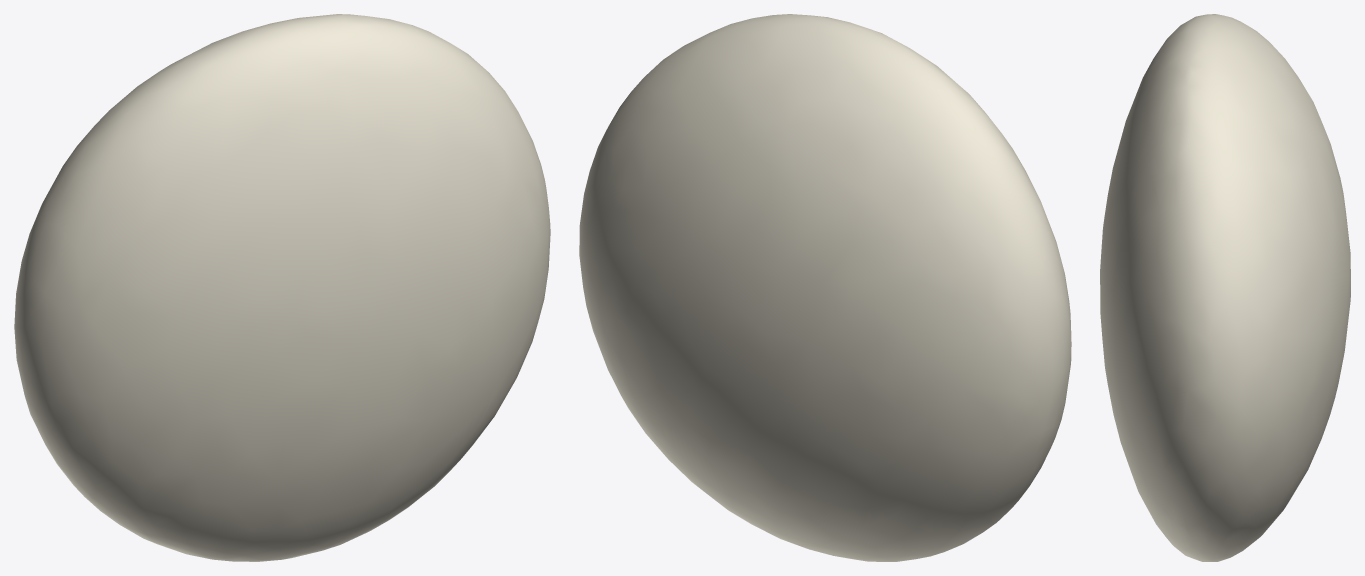
The model's file is fma58242_fj1356.glb.
The picture shows the model from 3 angles, left to right: view 1: azimuth 30°, elevation 25°; view 2: azimuth 150°, elevation 25°; view 3: azimuth 270°, elevation 25°; orthographic projection. The views are drawn at different scales.
Visible parts, largest first — view 1: FMA58242_FJ1356; view 2: FMA58242_FJ1356; view 3: FMA58242_FJ1356.
Boxes of the visible parts, box(x1,y1,x2,y2) form: FMA58242_FJ1356: box(14, 14, 550, 561); FMA58242_FJ1356: box(579, 14, 1071, 561); FMA58242_FJ1356: box(1100, 14, 1350, 561).
Bounding box in the file's own units: 0.0103 × 0.0104 × 0.00477.
